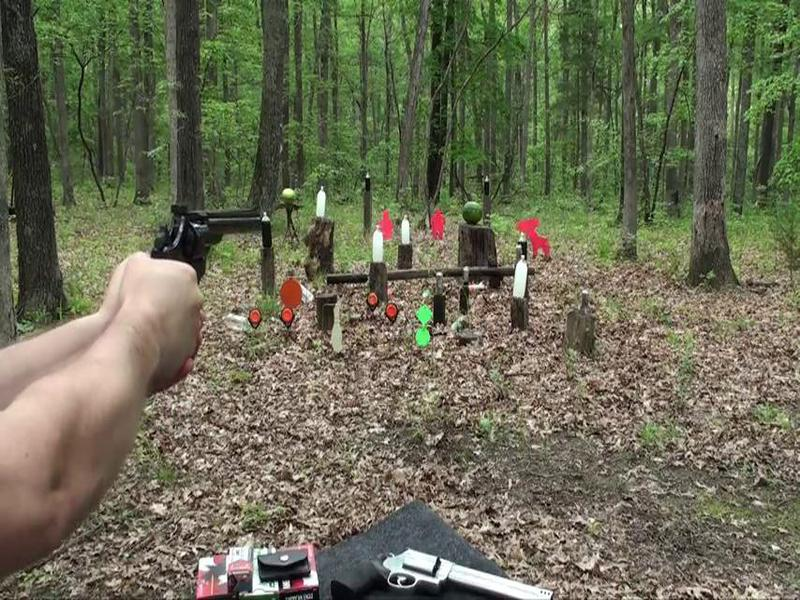Revolver: (130, 191, 292, 314)
